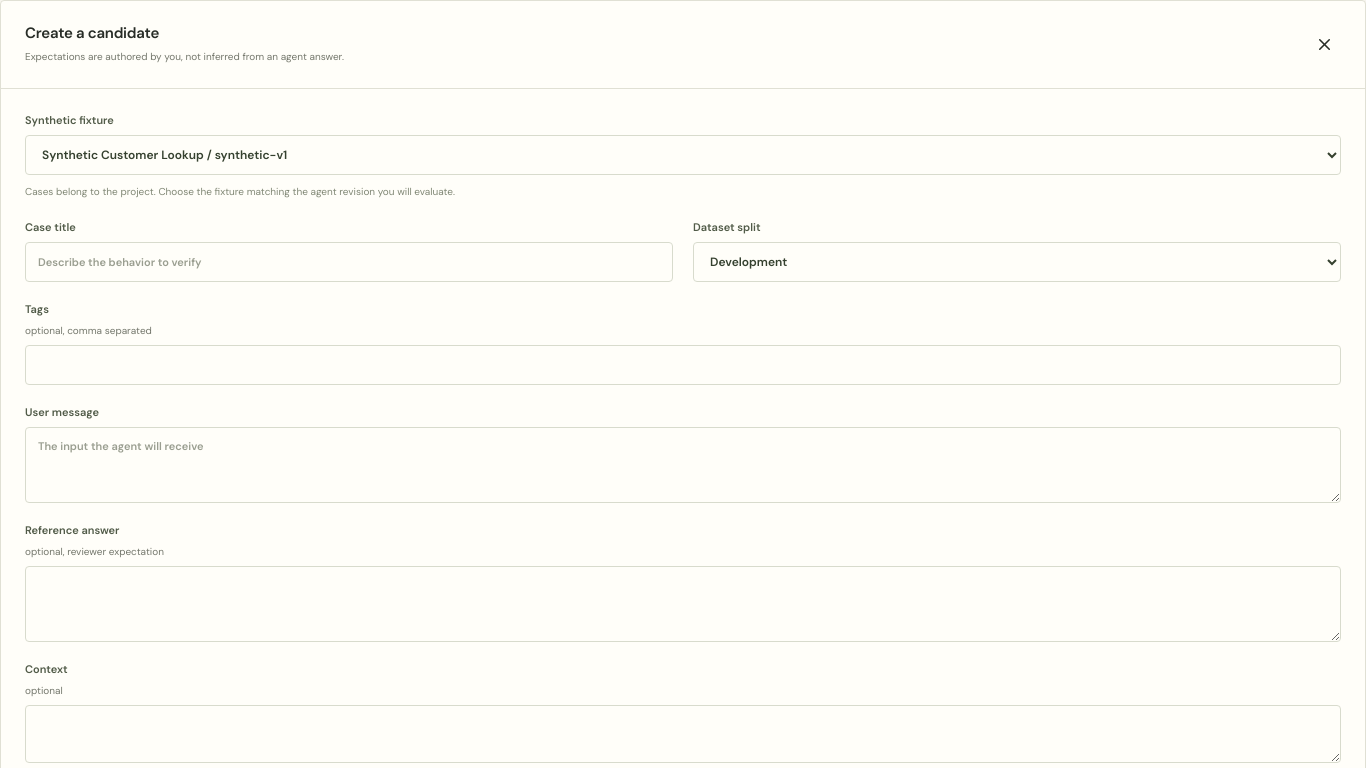
Test: candidate form › surfaces server validation errors without closing the editor
Step 1. Type "Case" into the field labelled "Case title" → (349, 262), box [25,242,673,282]
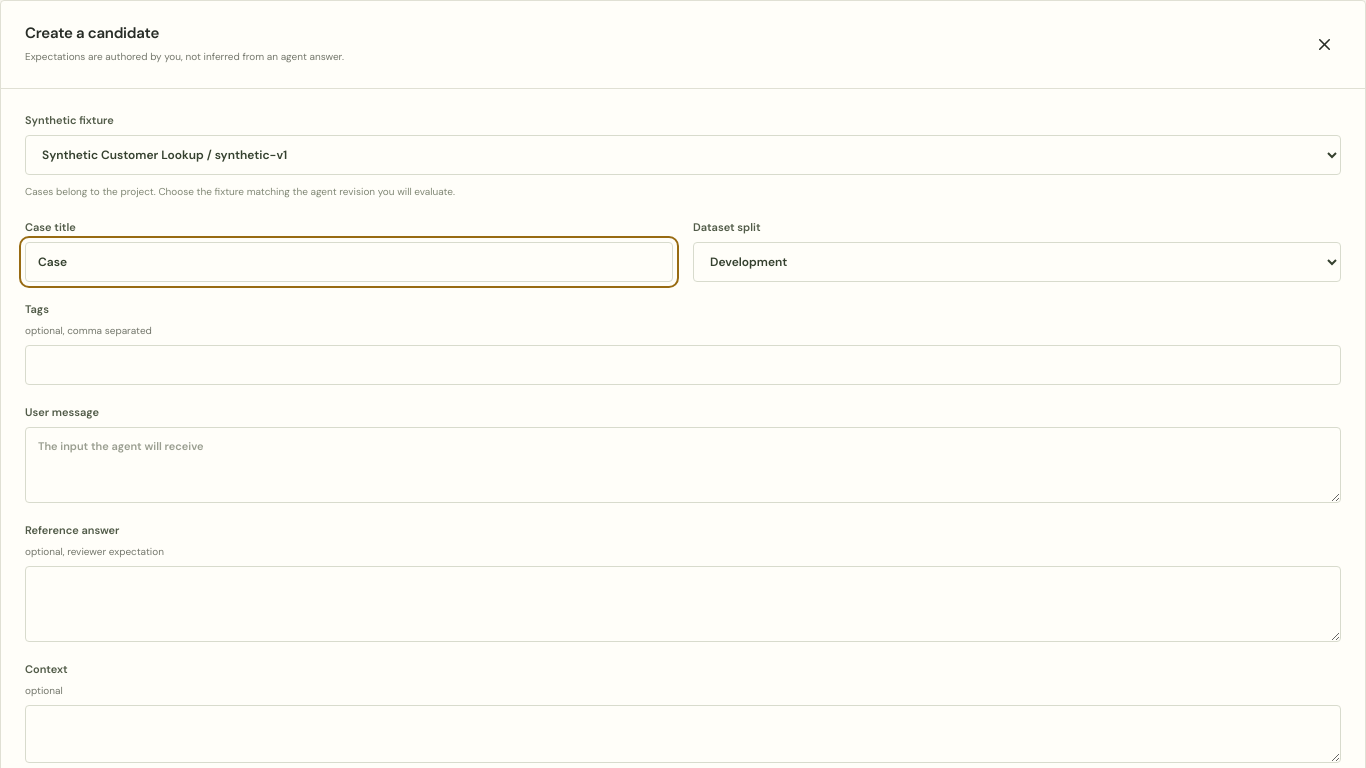
Step 2. Type "Question" into the text box labelled "User message" → (683, 464), box [25,426,1341,502]
(page scrolled)
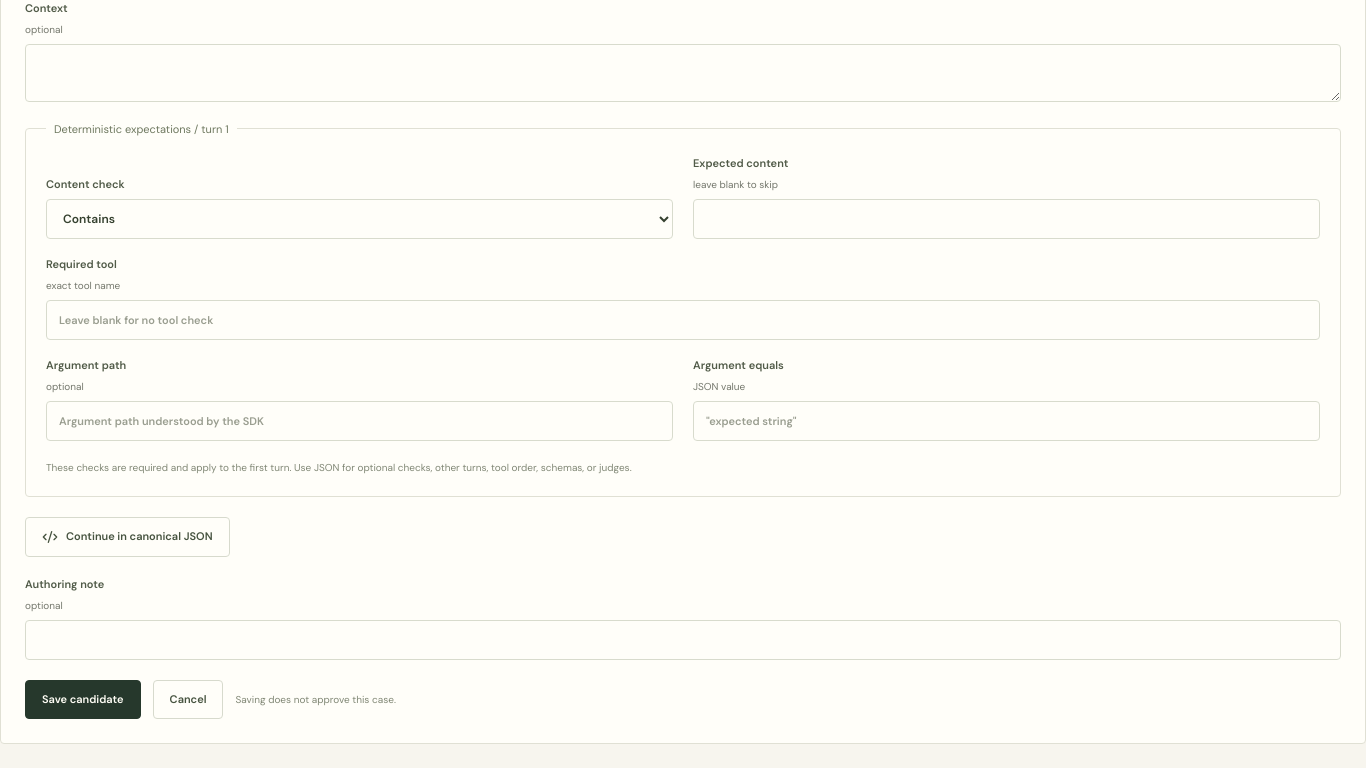
Step 3. Click the button "Save candidate" → (83, 699), box [25,680,141,718]
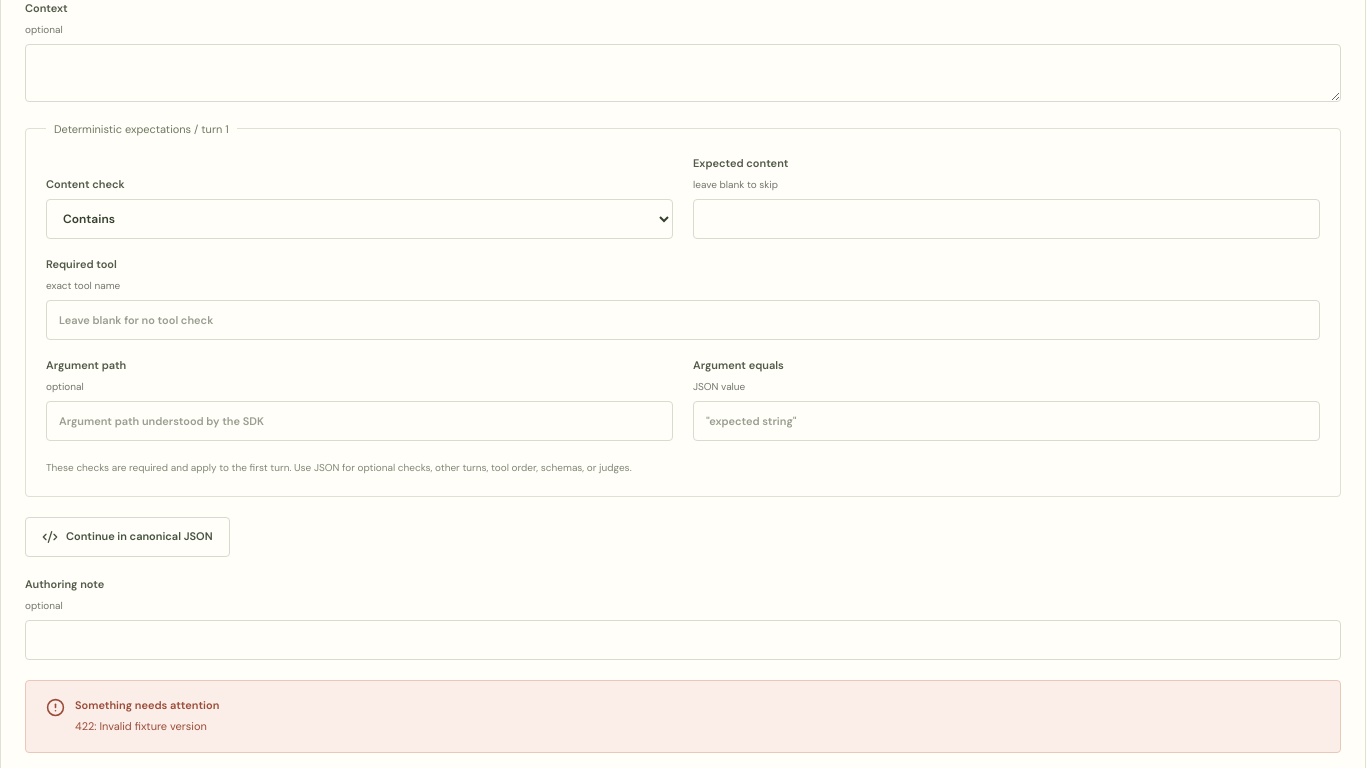
Check: the message shows "Invalid fixture version", box [75,718,207,732]
